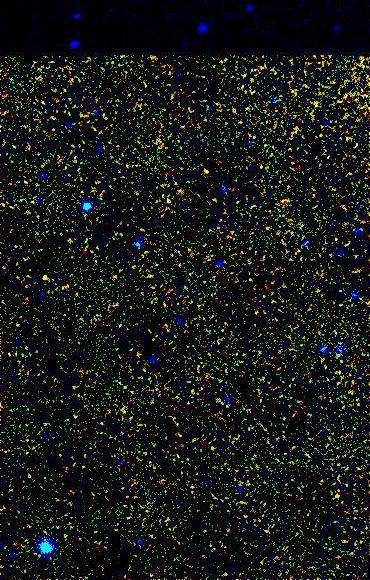star: (29, 265, 59, 295)
